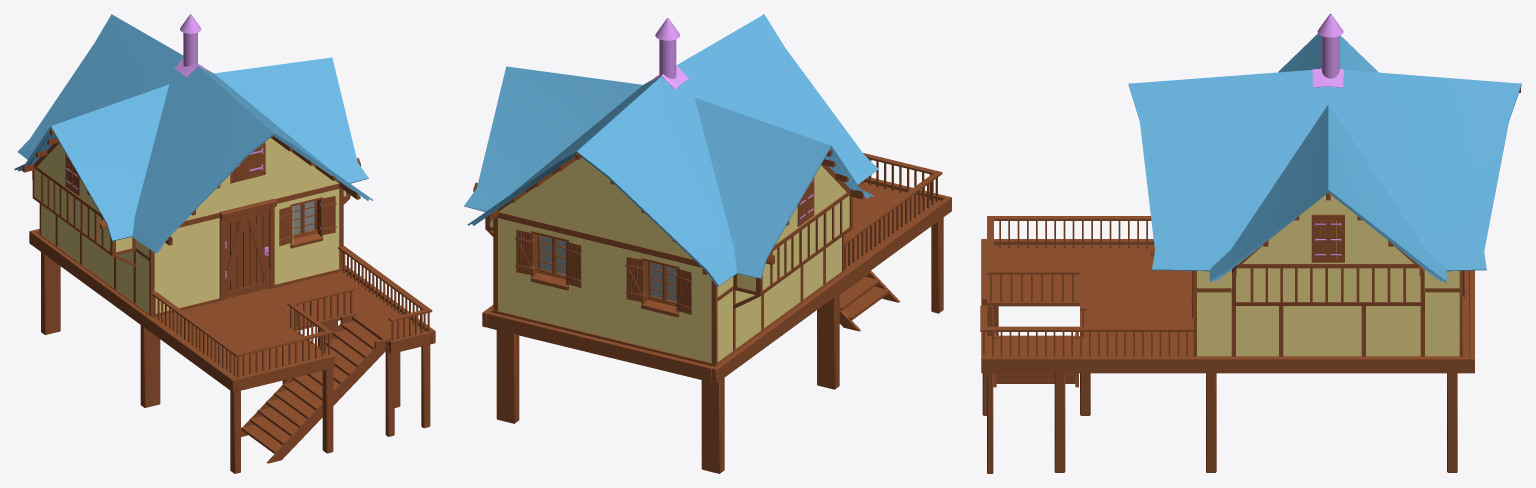
Rendered from muwu4.FBX.
3 views of the same model, side by side, from view 1: azimuth 30°, elevation 25°; view 2: azimuth 150°, elevation 25°; view 3: azimuth 270°, elevation 25° (orthographic). The views are drawn at different scales.
Parts seen in each view (by area): view 1: HouseSM_RoofTiles, HouseSM_WoodDark (×2), HouseSM_PlasterYellow, HouseSM_Wood_Beams, HouseSM_Metal_Pitted, HouseSM_Glass; view 2: HouseSM_RoofTiles, HouseSM_PlasterYellow, HouseSM_WoodDark, HouseSM_Wood_Beams, HouseSM_Glass, HouseSM_Metal_Pitted; view 3: HouseSM_RoofTiles, HouseSM_WoodDark, HouseSM_PlasterYellow, HouseSM_Wood_Beams, HouseSM_Metal_Pitted.
Boxes of the visible parts, x1,y1,x2,y2 form: HouseSM_RoofTiles: (14,14,372,253); HouseSM_WoodDark (×2): (38,142,432,473); HouseSM_PlasterYellow: (35,138,346,313); HouseSM_Wood_Beams: (22,129,435,463); HouseSM_Metal_Pitted: (66,14,320,278); HouseSM_Glass: (293,201,314,234); HouseSM_RoofTiles: (464,14,878,286); HouseSM_PlasterYellow: (490,158,849,362); HouseSM_WoodDark: (496,153,943,473); HouseSM_Wood_Beams: (473,149,951,383); HouseSM_Glass: (540,235,676,301); HouseSM_Metal_Pitted: (533,18,813,302); HouseSM_RoofTiles: (1128,34,1521,282); HouseSM_WoodDark: (980,216,1469,473); HouseSM_PlasterYellow: (1197,195,1459,356); HouseSM_Wood_Beams: (981,88,1520,387); HouseSM_Metal_Pitted: (1190,14,1343,272).
Size of the model in its own units: 7.06 by 7.97 by 9.72.
